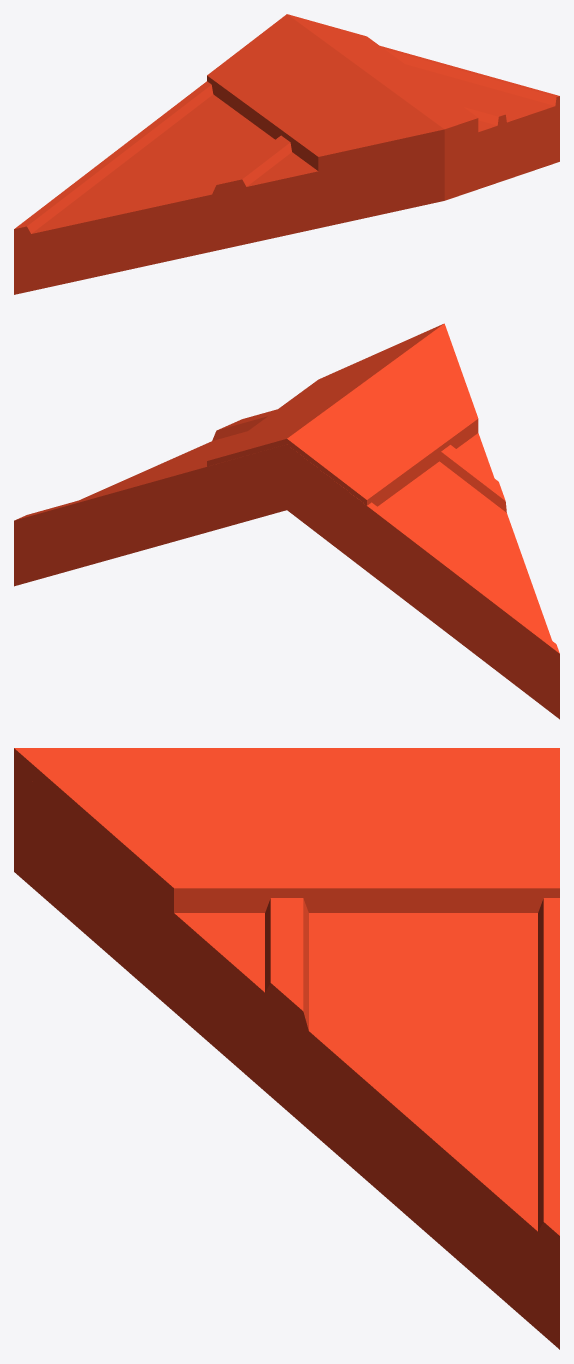
The model's file is roof-metal-moderate-1x1m-diagonal-center.fbx.
3 views of the same model, one above another, from view 1: azimuth 30°, elevation 25°; view 2: azimuth 150°, elevation 25°; view 3: azimuth 270°, elevation 25° (orthographic). The views are drawn at different scales.
Parts seen in each view (by area): view 1: roof-metal-moderate-1x1m-diagonal-center; view 2: roof-metal-moderate-1x1m-diagonal-center; view 3: roof-metal-moderate-1x1m-diagonal-center.
Part boxes in pixels (bbox=[...]): roof-metal-moderate-1x1m-diagonal-center: bbox=[14, 14, 559, 294]; roof-metal-moderate-1x1m-diagonal-center: bbox=[14, 323, 559, 719]; roof-metal-moderate-1x1m-diagonal-center: bbox=[14, 748, 559, 1349].
Size of the model in its own units: 2 by 0.7501 by 1.
